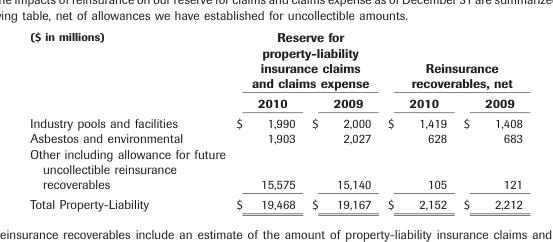table: (29, 29, 521, 211)
table column: (29, 29, 230, 211), (302, 29, 378, 211), (378, 29, 454, 211), (230, 29, 302, 211), (454, 29, 521, 211)
table column header: (29, 29, 521, 112)
table row: (29, 29, 521, 92), (29, 145, 521, 193), (29, 92, 521, 112), (29, 112, 521, 130), (29, 193, 521, 211), (29, 130, 521, 145)
table spanning cell: (29, 29, 230, 112), (230, 29, 378, 92), (378, 29, 521, 92)
